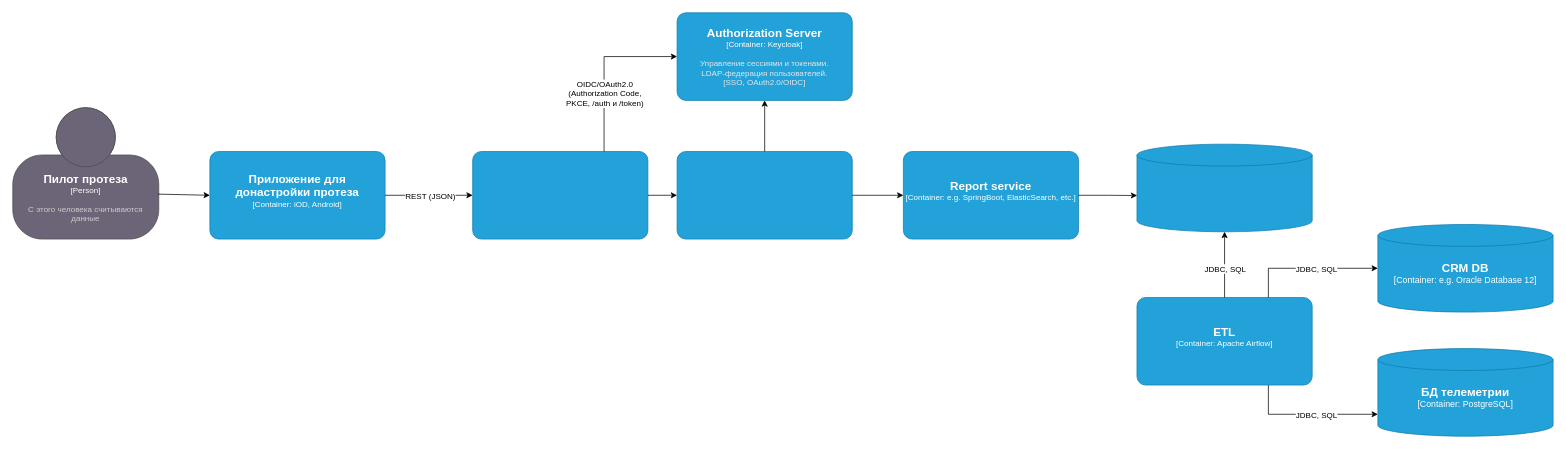
Some shapes in this 1566 by 449 pixel diagram are drawn without their labels. Here are the shapes that lost their labels. From the top down, the centre of each, then its label:
At (560,195): "API Gateway [Container: e.g. SpringBoot, ElasticSearch, etc.]".
At (764,195): "API [Container: e.g. SpringBoot, ElasticSearch, etc.]".
At (1224,187): "OLAP [Container: PostgreSQL] Данные аналики и отчетов".
